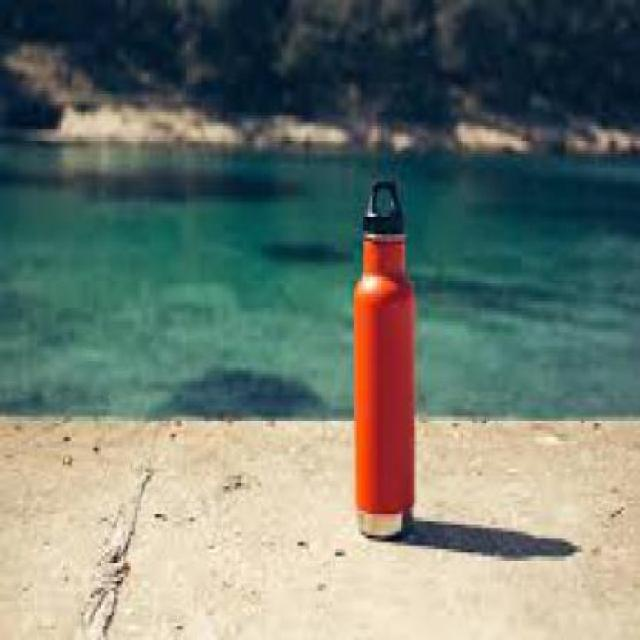Drinking: (344, 171, 433, 549)
